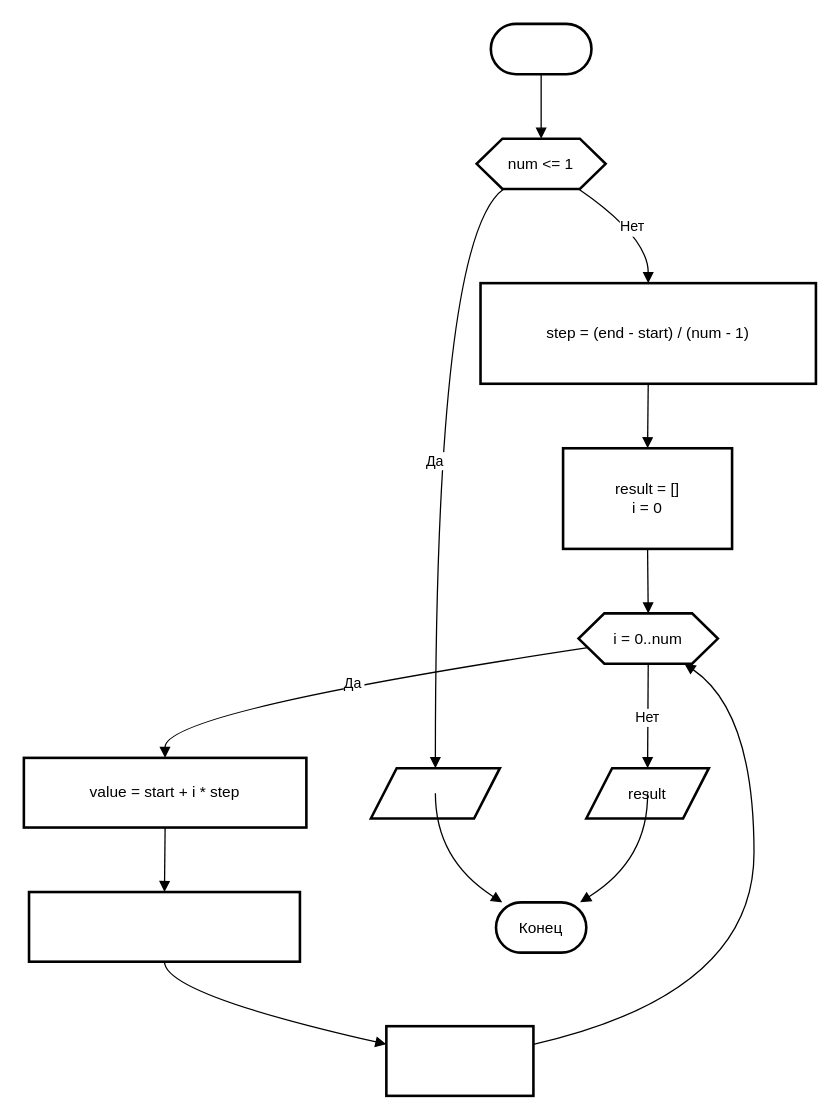
Image size: 839x1118. Some labels were removed from this diagram. Here are the shapes that lost their labels. From the top down, the centre of each, then its label:
At pixel 540 48: "Начало".
At pixel 435 792: "[start]".
At pixel 164 926: "result.append(value)".
At pixel 459 1060: "i = i + 1".
